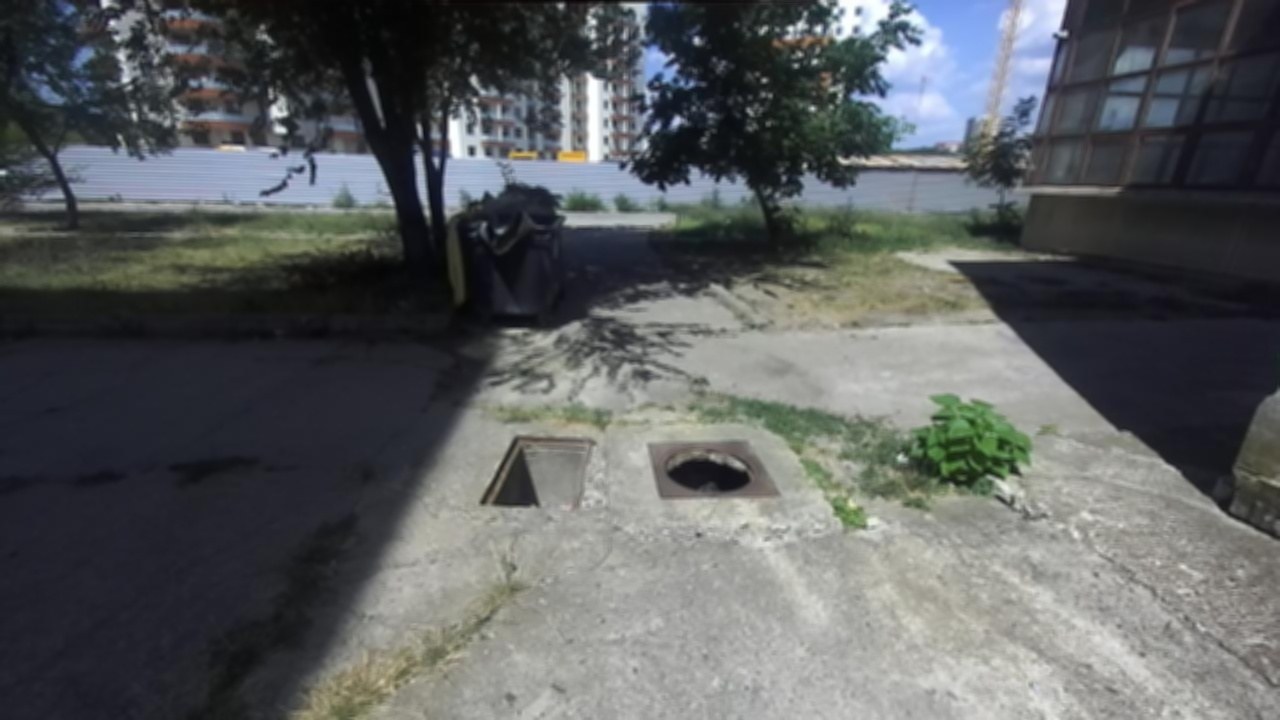drain: (474, 429, 598, 512), (658, 442, 766, 494)
